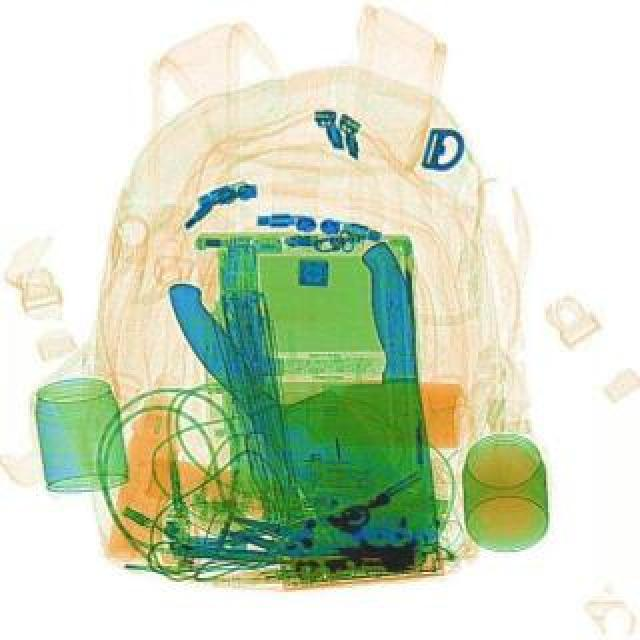knife: (142, 248, 452, 592), (304, 240, 438, 576)
